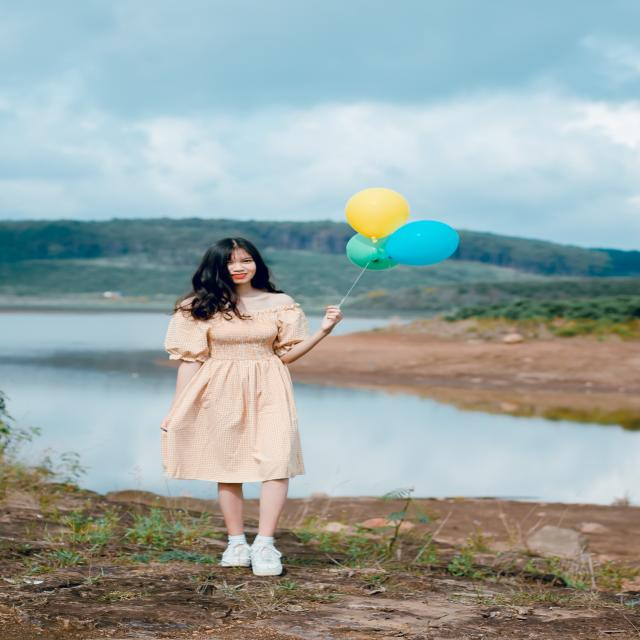standing: (151, 239, 346, 573)
